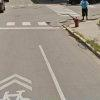Crosswalk: (2, 18, 66, 36)
